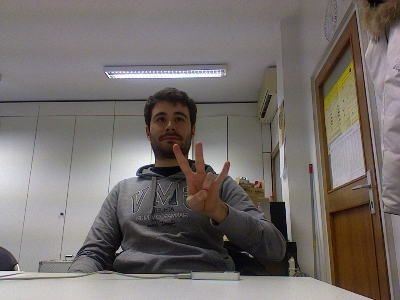观音: (170, 140, 231, 215)
